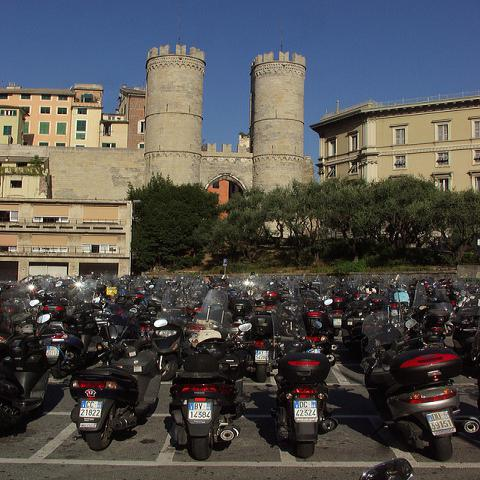motorcycle: (1, 262, 479, 379), (360, 311, 480, 462), (152, 317, 258, 461), (65, 327, 174, 450), (270, 303, 336, 458), (0, 317, 50, 434), (34, 309, 100, 378), (92, 290, 163, 344), (243, 281, 277, 383), (443, 306, 479, 366), (292, 296, 336, 338), (328, 290, 348, 336), (115, 276, 130, 298), (176, 274, 188, 284)
